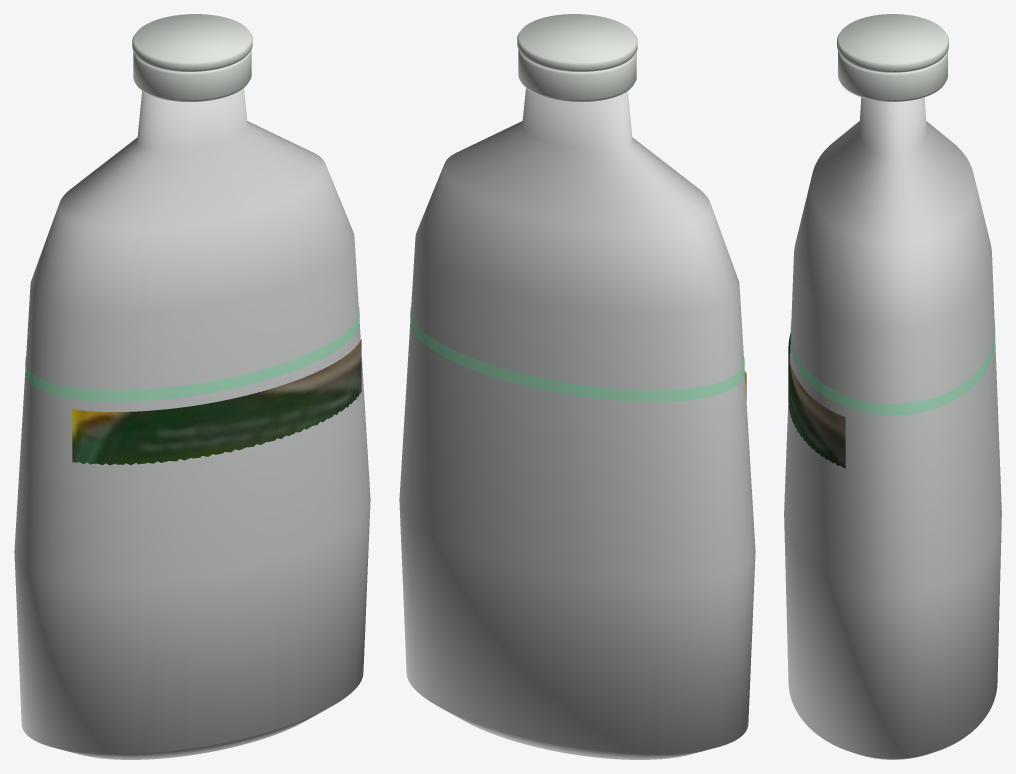
3 views of the same model, side by side, from view 1: azimuth 30°, elevation 25°; view 2: azimuth 150°, elevation 25°; view 3: azimuth 270°, elevation 25° (orthographic). The views are drawn at different scales.
Visible parts, largest first — view 1: body, flip_lid, cap; view 2: body, flip_lid, cap; view 3: body, flip_lid, cap.
Part boxes in pixels (x1,y1,x2,y2): body: [14, 88, 370, 759]; flip_lid: [132, 14, 252, 71]; cap: [133, 49, 251, 101]; body: [399, 88, 755, 759]; flip_lid: [517, 14, 637, 71]; cap: [518, 49, 636, 101]; body: [784, 97, 1001, 759]; flip_lid: [837, 14, 948, 72]; cap: [838, 51, 947, 101].
Size of the model in its own units: 0.1207 by 0.2309 by 0.0691.
4 materials, 1 textured.
